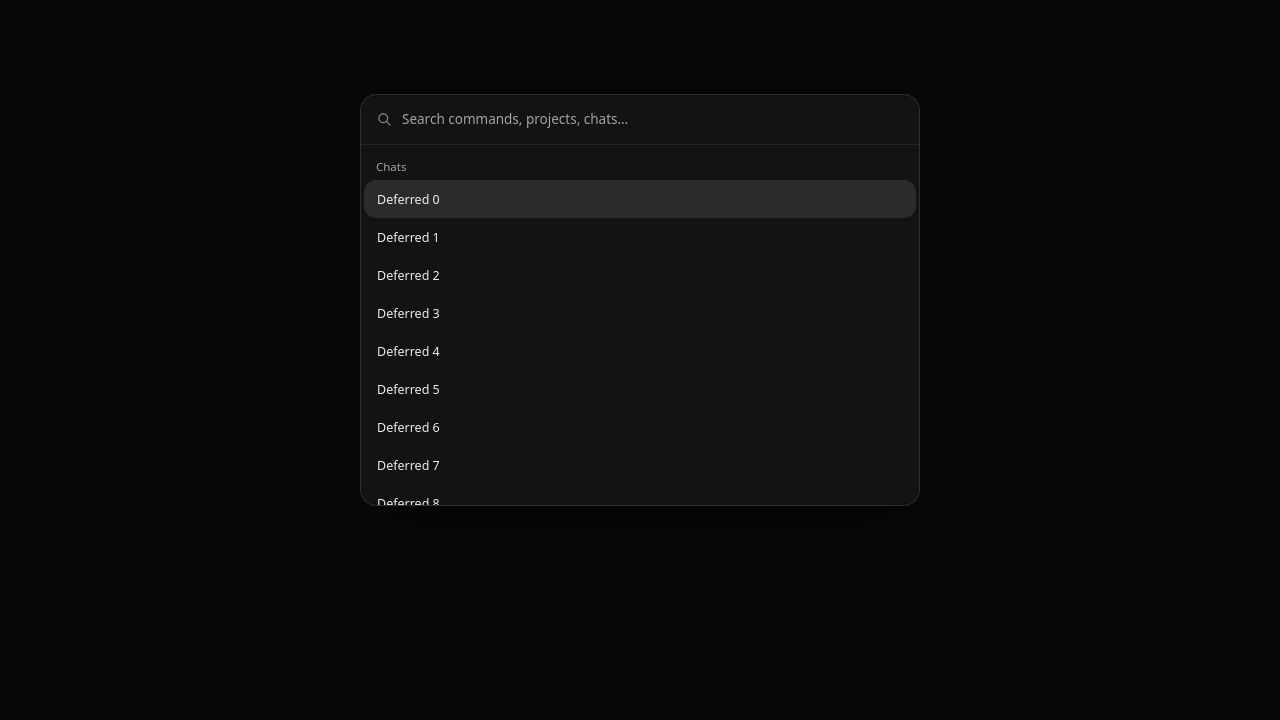
CommandPalette › materializes only bounded deferred chat matches
The width and height of the screenshot is (1280, 720).
Type "deferred needle" into the field labelled "Search commands".
click(652, 119); type("deferred needle")  # box [402,109,903,130]
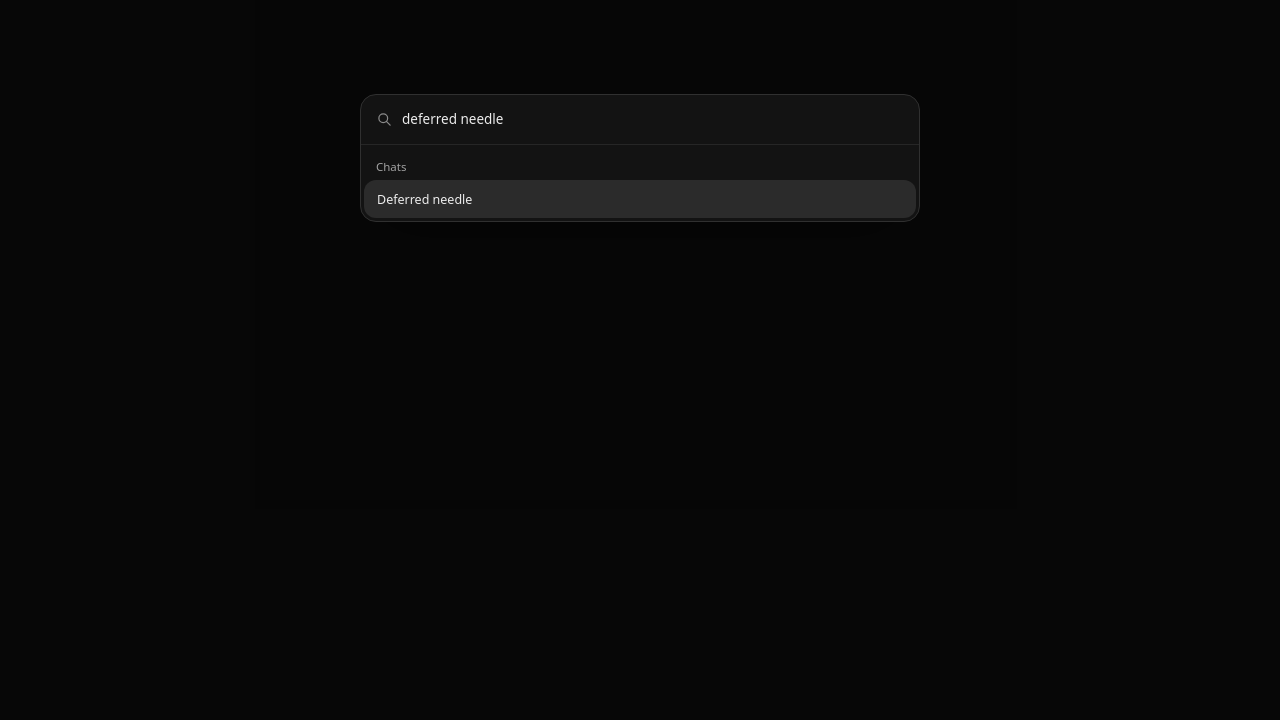
Now the number of options is 1, box [364,180,916,218]
